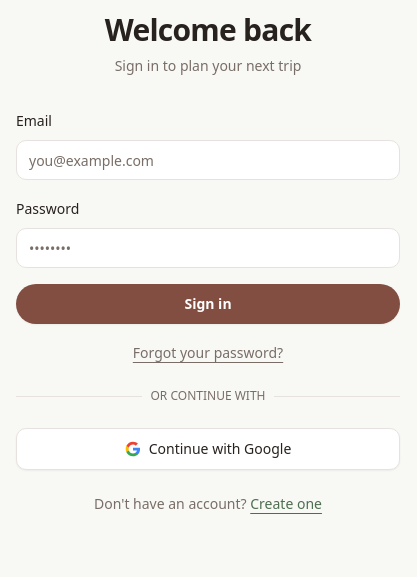
LoginPage — Sign in mode › shows error when forgot password clicked without email
Click the button "Forgot your password?" at (208, 353), box [133, 343, 283, 363]
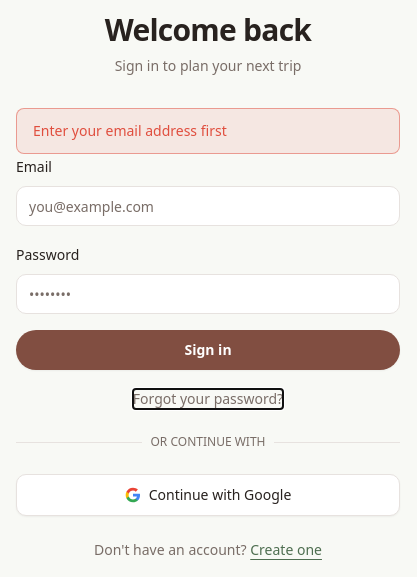
Now the text "Enter your email address first" is shown, box [33, 121, 227, 140]
